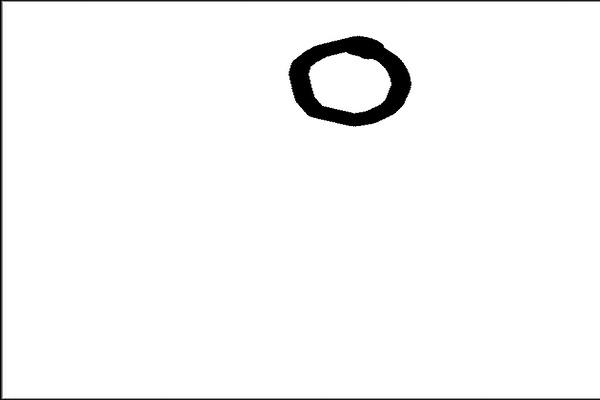O: (275, 24, 416, 138)
